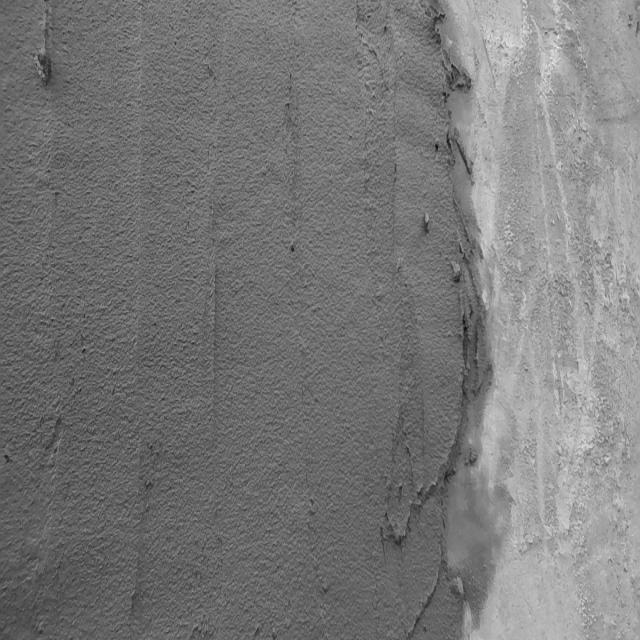trowels marks: (207, 252, 220, 458)
